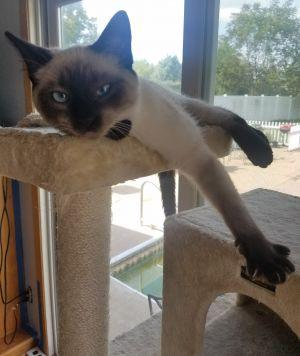siamese: (2, 8, 149, 153)
